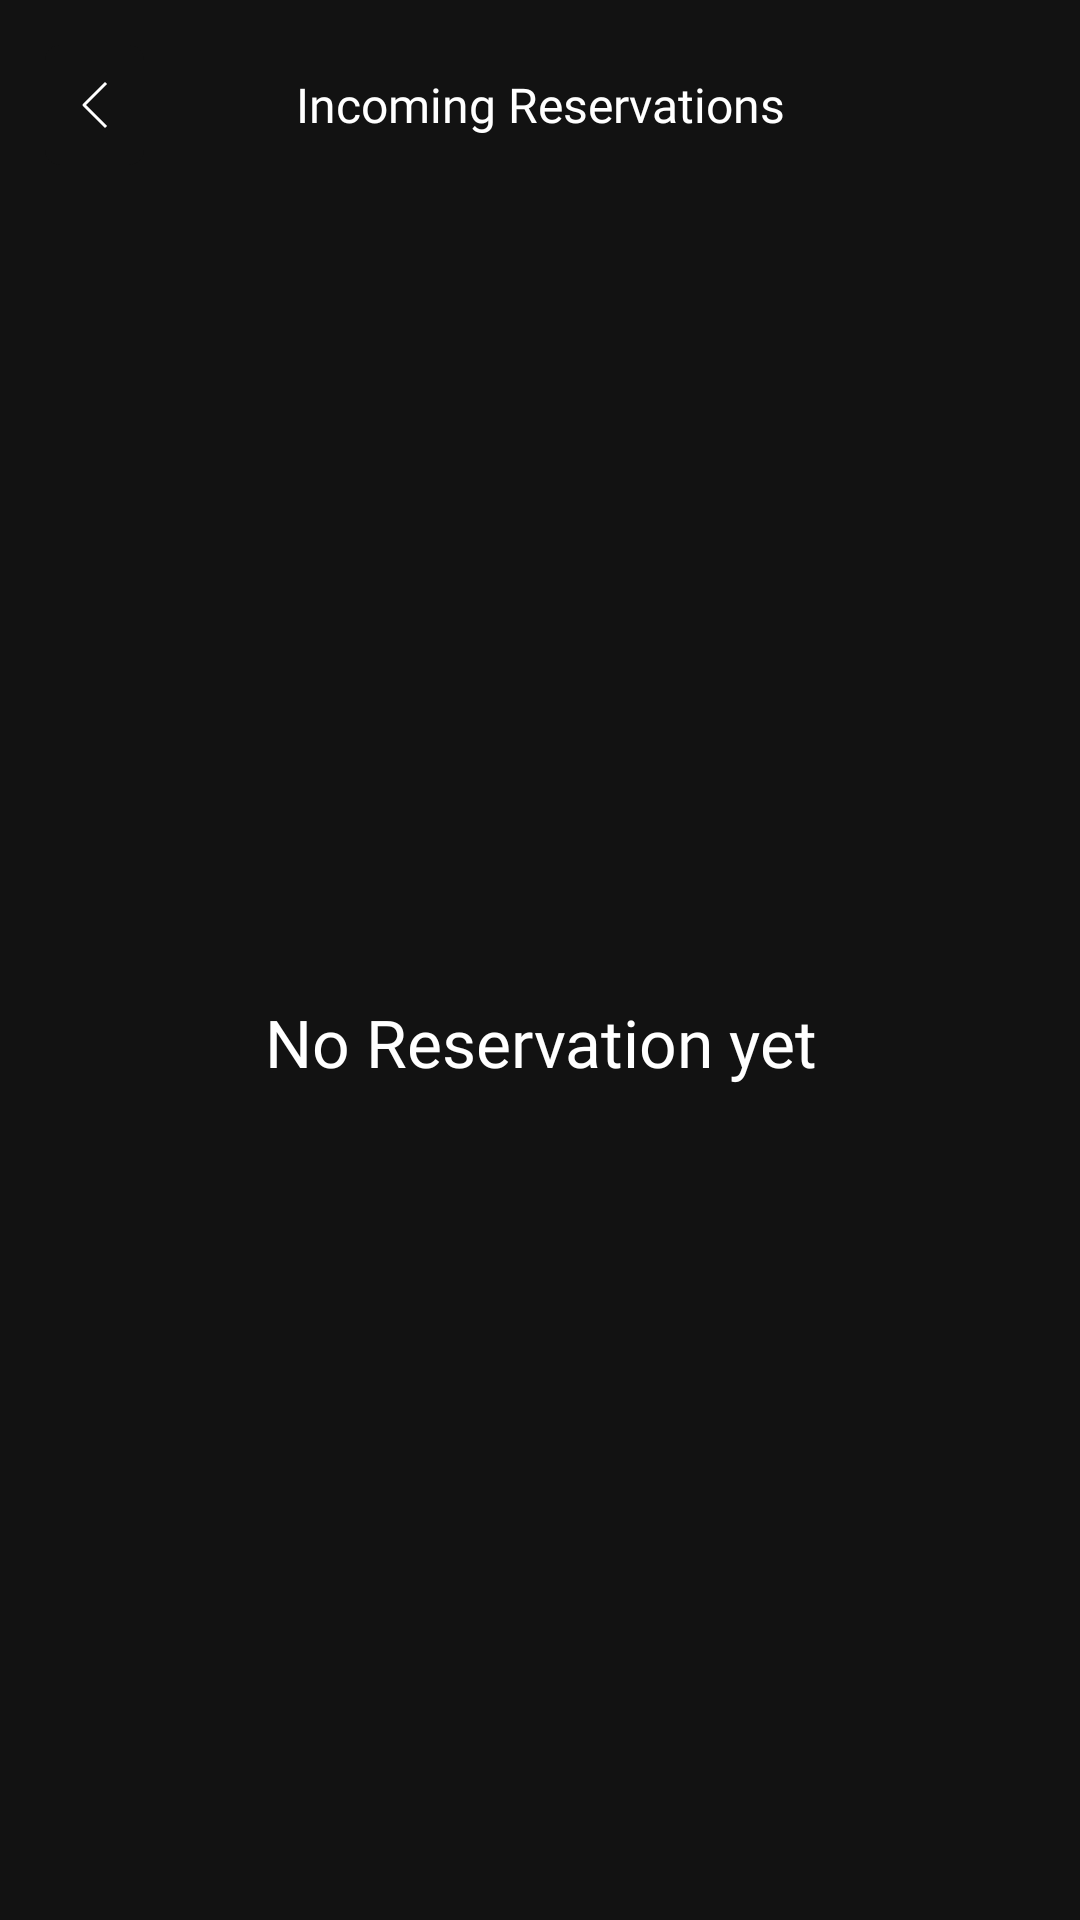

Icon bounding boxes for this 1080w x 1920h phone screenshot, format [left=x1, top=y1, right=x2, bottom=y2]:
back: [left=82, top=82, right=107, bottom=128]
